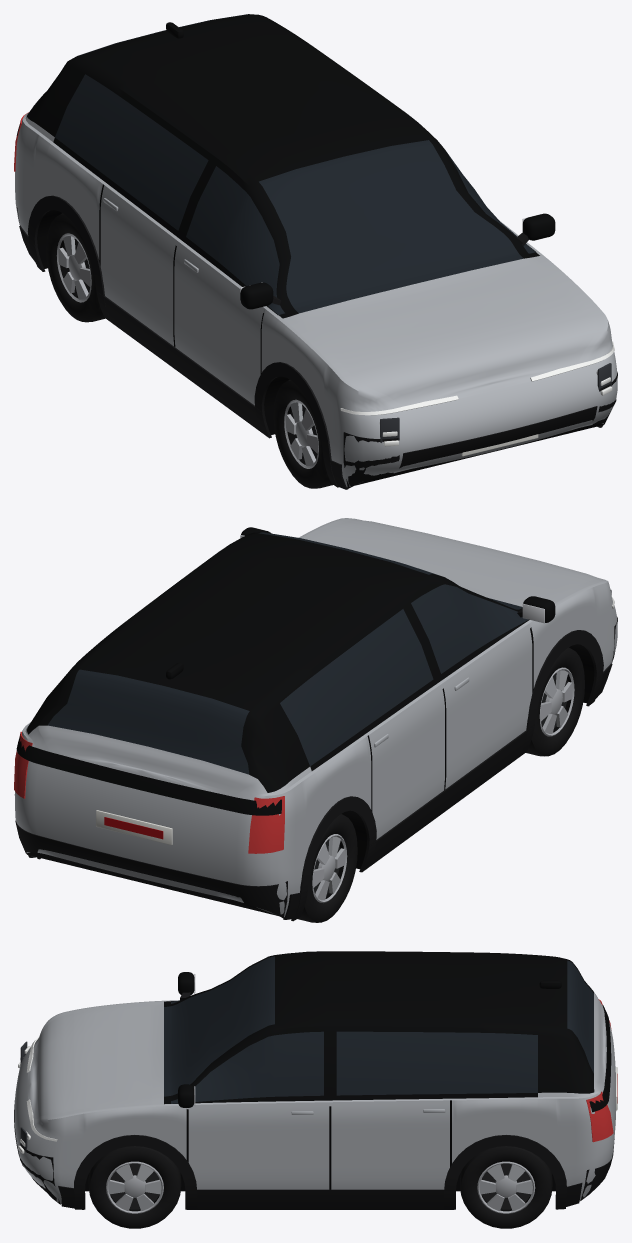
File: kia_ev3.glb
The picture shows the model from 3 angles, top to bottom: view 1: azimuth 30°, elevation 25°; view 2: azimuth 150°, elevation 25°; view 3: azimuth 270°, elevation 25°; orthographic projection. The views are drawn at different scales.
Visible parts, largest first — view 1: body, wheel-back-right, wheel-front-right; view 2: body, wheel-front-right, wheel-back-right; view 3: body, wheel-back-left, wheel-front-left.
Part boxes in pixels (x1,y1,x2,y2): body: (14, 14, 617, 489); wheel-back-right: (46, 213, 105, 322); wheel-front-right: (273, 379, 332, 488); body: (14, 518, 617, 921); wheel-front-right: (526, 647, 584, 756); wheel-back-right: (297, 814, 357, 922); body: (14, 951, 617, 1209); wheel-back-left: (460, 1146, 552, 1228); wheel-front-left: (88, 1146, 181, 1228).
Bounding box in the file's own units: 2.11 × 1.57 × 4.36.
